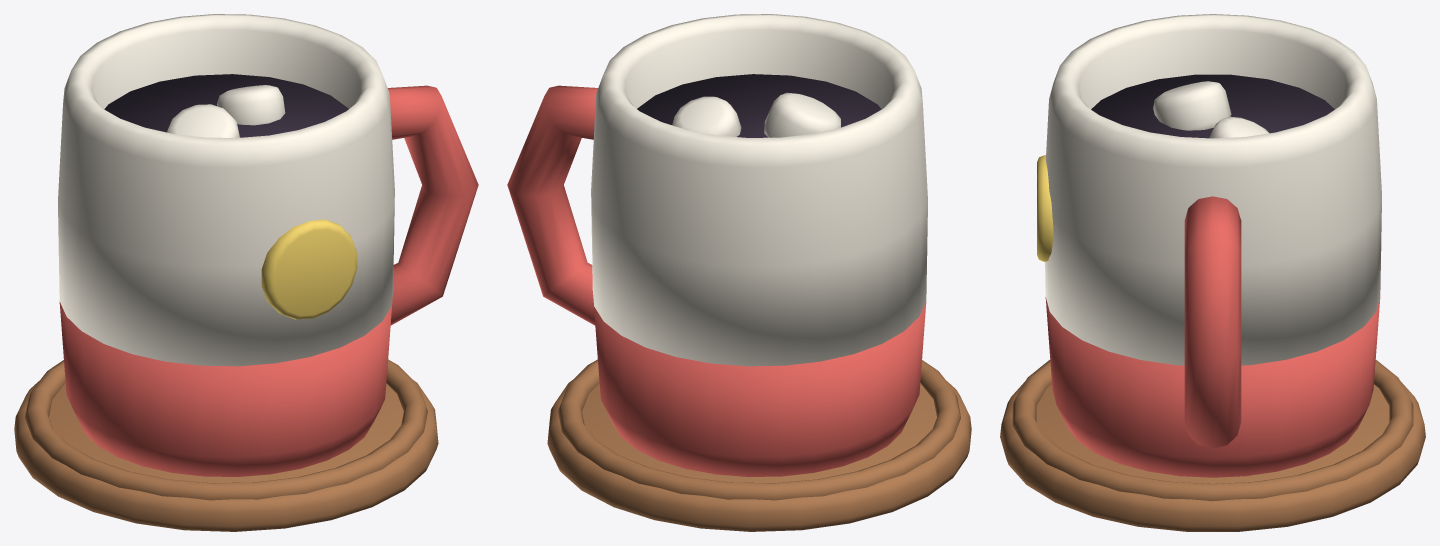
The model's file is mug.glb.
3 views of the same model, side by side, from view 1: azimuth 30°, elevation 25°; view 2: azimuth 150°, elevation 25°; view 3: azimuth 270°, elevation 25° (orthographic).
Parts seen in each view (by area): view 1: ShopMug_CreamBody, ShopMug_CoralDipAndHandle, ShopMug_WoodCoaster, ShopMug_ButterBadge, ShopMug_CocoaSurface; view 2: ShopMug_CreamBody, ShopMug_CoralDipAndHandle, ShopMug_WoodCoaster, ShopMug_CocoaSurface; view 3: ShopMug_CreamBody, ShopMug_CoralDipAndHandle, ShopMug_WoodCoaster, ShopMug_CocoaSurface, ShopMug_ButterBadge.
Boxes of the visible parts, bbox=[...] form: ShopMug_CreamBody: bbox=[58, 14, 394, 366]; ShopMug_CoralDipAndHandle: bbox=[59, 85, 478, 476]; ShopMug_WoodCoaster: bbox=[14, 359, 438, 531]; ShopMug_ButterBadge: bbox=[261, 219, 357, 319]; ShopMug_CocoaSurface: bbox=[104, 74, 348, 137]; ShopMug_CreamBody: bbox=[591, 14, 927, 366]; ShopMug_CoralDipAndHandle: bbox=[507, 85, 926, 476]; ShopMug_WoodCoaster: bbox=[547, 359, 971, 531]; ShopMug_CocoaSurface: bbox=[637, 74, 881, 137]; ShopMug_CreamBody: bbox=[1045, 14, 1381, 365]; ShopMug_CoralDipAndHandle: bbox=[1045, 196, 1380, 477]; ShopMug_WoodCoaster: bbox=[1000, 360, 1425, 531]; ShopMug_CocoaSurface: bbox=[1091, 74, 1334, 138]; ShopMug_ButterBadge: bbox=[1037, 155, 1053, 261].
Size of the model in its own units: 0.1445 by 0.118 by 0.1234.
